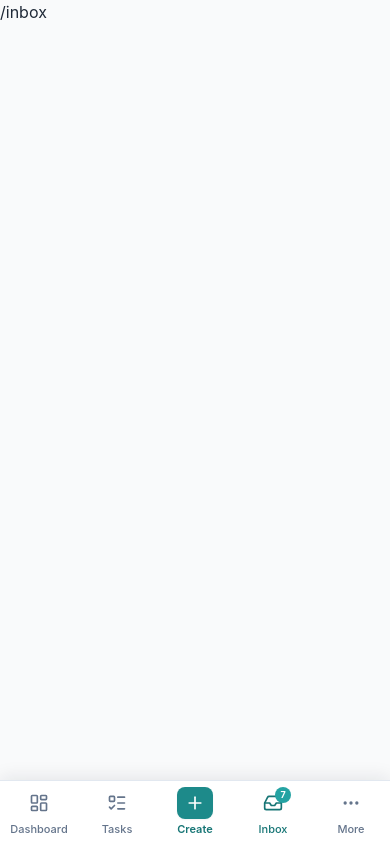
Test: MobileBottomNavigation › navigates to New Task from the Create sheet and marks Create active
The image size is (390, 844).
Click the button "Create" at (195, 812), box top-left (156, 781), bottom-right (234, 843)
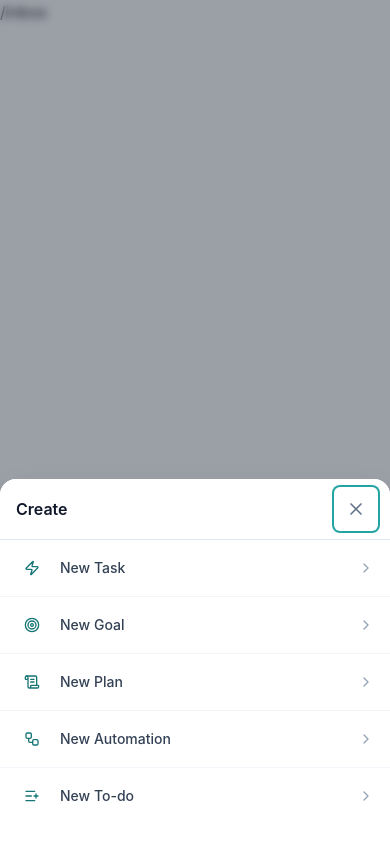
Click the link "New Task" at (93, 568), box top-left (24, 559), bottom-right (374, 576)
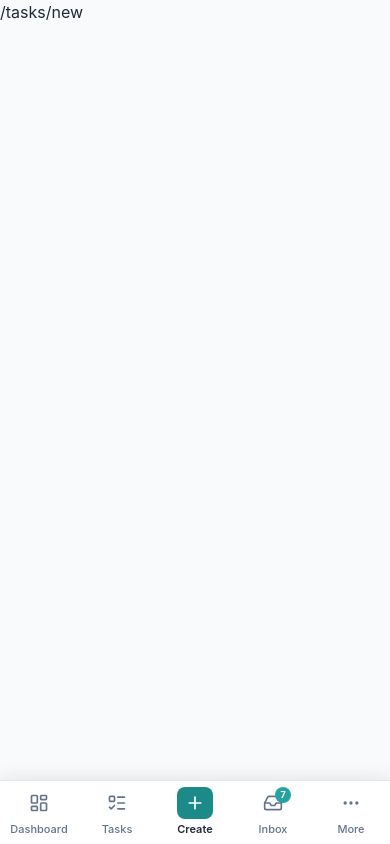
Expected: the text with test id "location" reads "/tasks/new", top-left (0, 2), bottom-right (83, 22)
Expected: the dialog is gone
